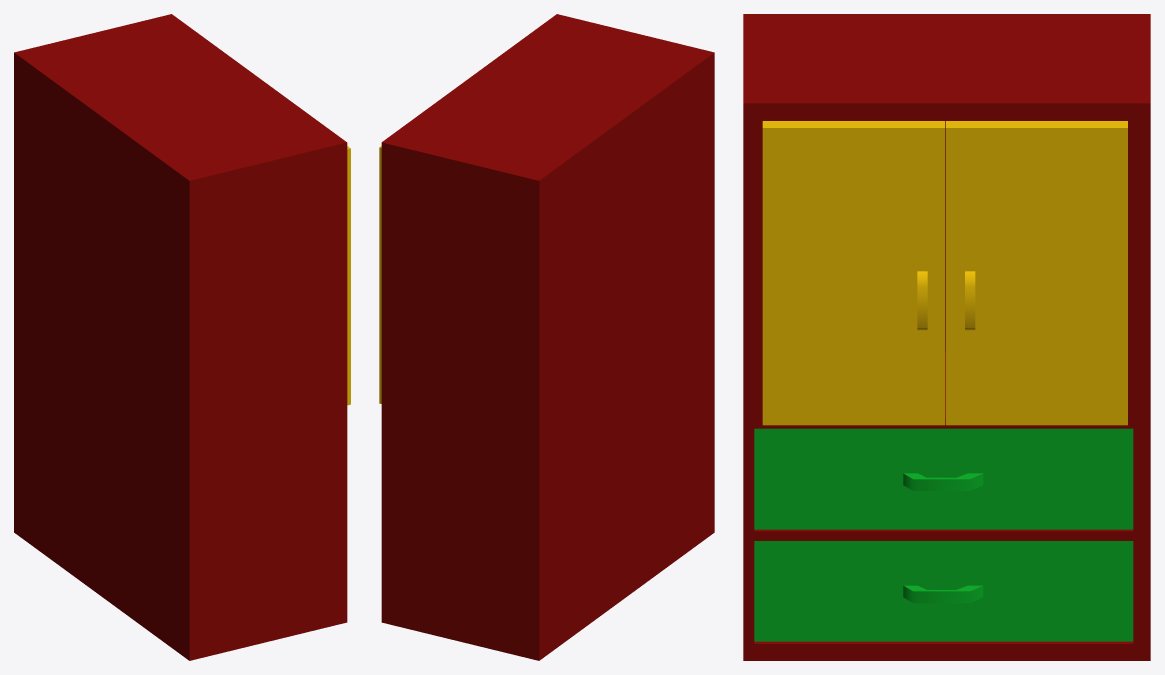
File: closet.FBX
3 renders of one model, left to right at view 1: azimuth 30°, elevation 25°; view 2: azimuth 150°, elevation 25°; view 3: azimuth 270°, elevation 25°, orthographic. The views are drawn at different scales.
Parts seen in each view (by area): view 1: closet, closetdoor_left; view 2: closet, closetdoor_right; view 3: closet, closetdoor_left, closetdoor_right, closet_drawer_top, closet_drawer_bottom.
Boxes of the visible parts, bbox=[...] form: closet: bbox=[14, 14, 347, 660]; closetdoor_left: bbox=[347, 146, 350, 405]; closet: bbox=[381, 14, 714, 660]; closetdoor_right: bbox=[379, 146, 381, 403]; closet: bbox=[743, 14, 1150, 660]; closetdoor_left: bbox=[762, 121, 944, 425]; closetdoor_right: bbox=[945, 121, 1127, 425]; closet_drawer_top: bbox=[754, 428, 1133, 529]; closet_drawer_bottom: bbox=[754, 541, 1133, 641].
Bounding box in the file's own units: 262 × 673 × 446.
